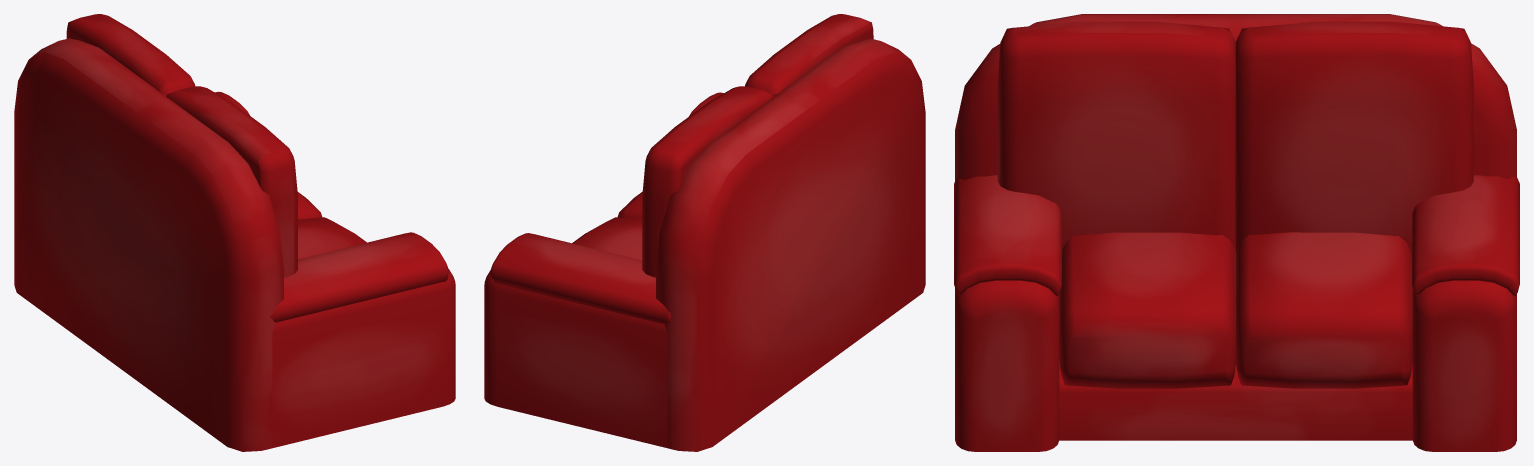
File: couch.glb
3 views of the same model, side by side, from view 1: azimuth 30°, elevation 25°; view 2: azimuth 150°, elevation 25°; view 3: azimuth 270°, elevation 25° (orthographic). The views are drawn at different scales.
Visible parts, largest first — view 1: ModernCouch; view 2: ModernCouch; view 3: ModernCouch.
Boxes of the visible parts, <box> form: ModernCouch: <box>14,14,455,451</box>; ModernCouch: <box>484,14,925,451</box>; ModernCouch: <box>954,14,1519,451</box>.
Size of the model in its own units: 1.48 by 1.76 by 2.73.
1 material, 1 textured.
